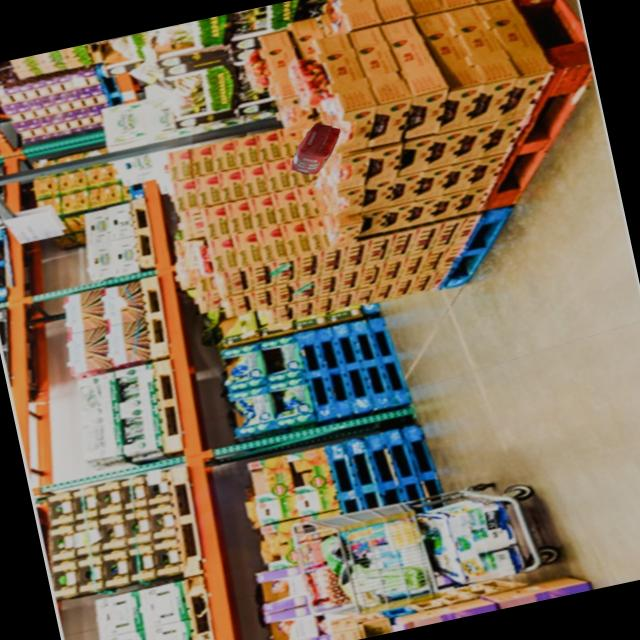mate bag: (280, 118, 348, 178)
